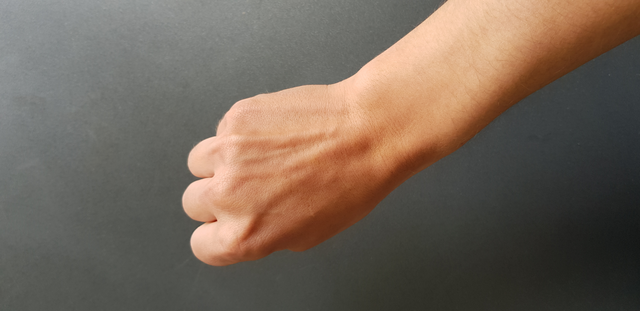Rock: (163, 73, 441, 272)
